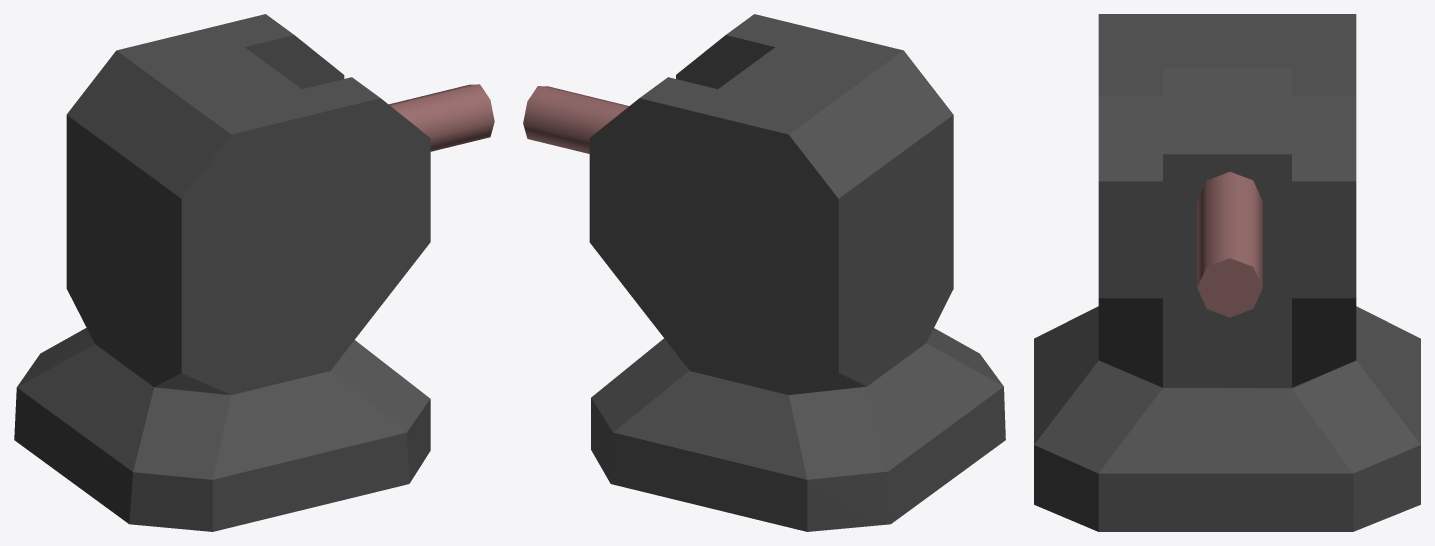
File: tourelle1.FBX
3 renders of one model, left to right at view 1: azimuth 30°, elevation 25°; view 2: azimuth 150°, elevation 25°; view 3: azimuth 270°, elevation 25°, orthographic. The views are drawn at different scales.
Visible parts, largest first — view 1: body, base, waypon; view 2: body, base, waypon; view 3: body, base, waypon.
Part boxes in pixels (box(x1,y1,x2,y2)): body: box(66, 14, 430, 394); base: box(14, 328, 430, 531); waypon: box(389, 84, 494, 151); body: box(589, 14, 953, 394); base: box(591, 328, 1005, 531); waypon: box(523, 86, 628, 153); body: box(1098, 14, 1356, 387); base: box(1034, 306, 1420, 531); waypon: box(1197, 172, 1262, 317).
Size of the model in its own units: 820 by 698 by 598.
